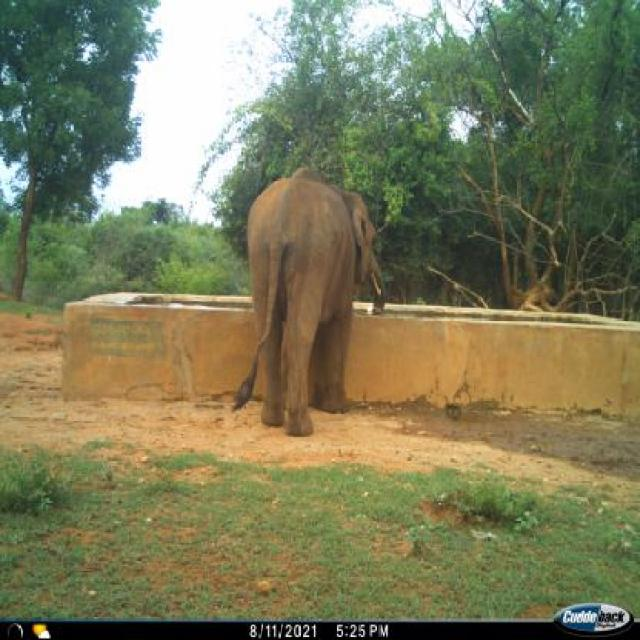Elephant: (239, 176, 384, 438)
